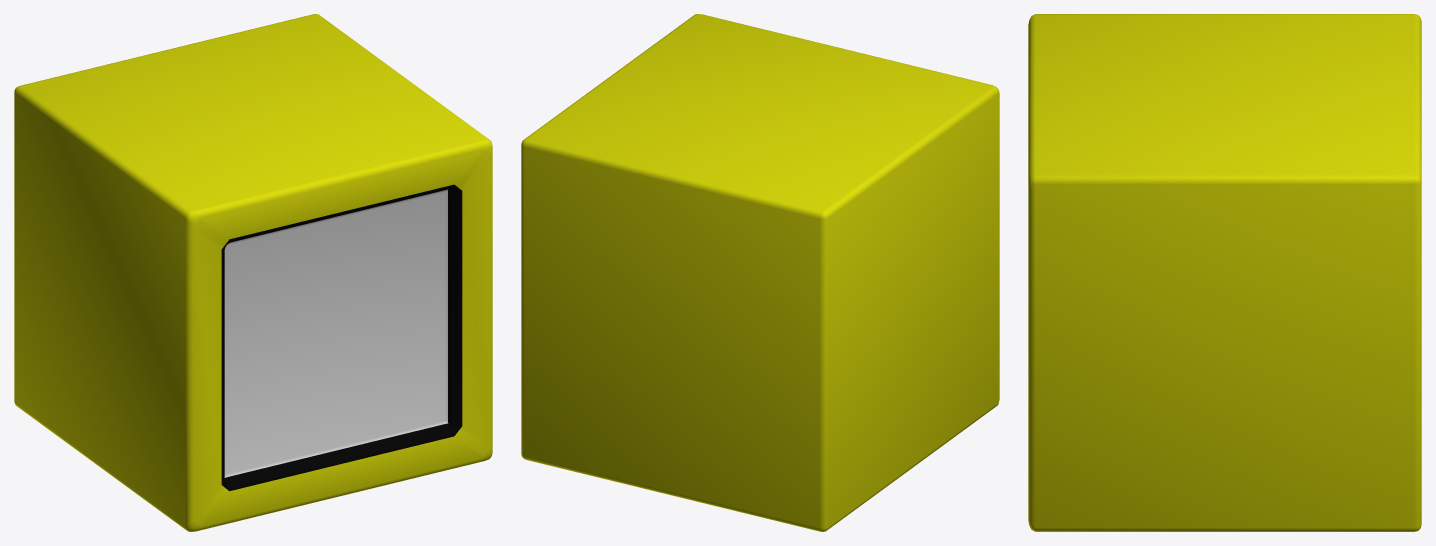
File: Screen.fbx
3 views of the same model, side by side, from view 1: azimuth 30°, elevation 25°; view 2: azimuth 150°, elevation 25°; view 3: azimuth 270°, elevation 25° (orthographic). The views are drawn at different scales.
Parts seen in each view (by area): view 1: Screen; view 2: Screen; view 3: Screen.
Part boxes in pixels (x1=…): Screen: x1=14, y1=14, x2=492, y2=531; Screen: x1=521, y1=14, x2=999, y2=531; Screen: x1=1028, y1=14, x2=1421, y2=531.
Bounding box in the file's own units: 40 × 40 × 40.
